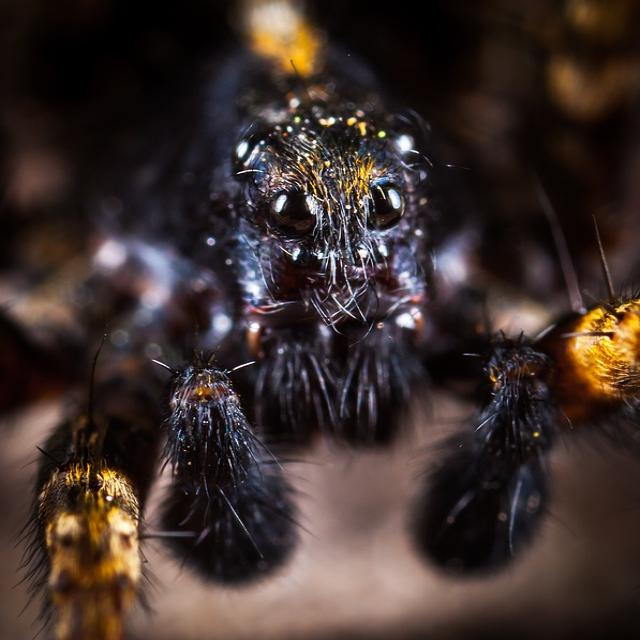spyder: (3, 0, 638, 640)
